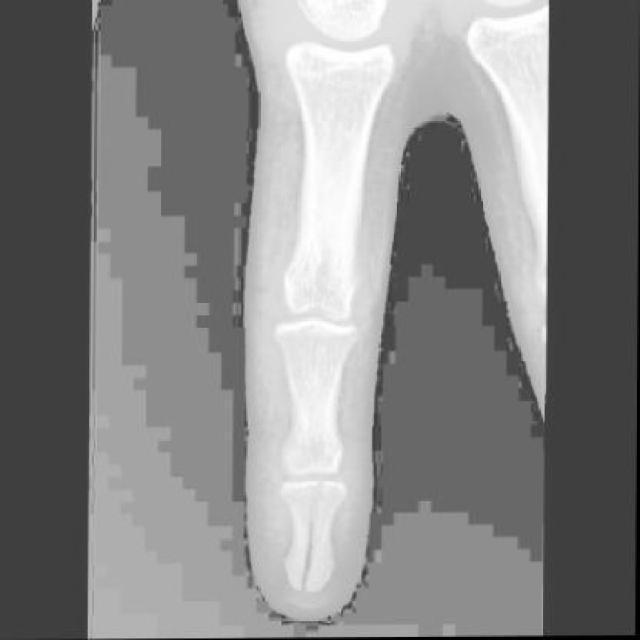Fracture: (274, 484, 346, 604)
